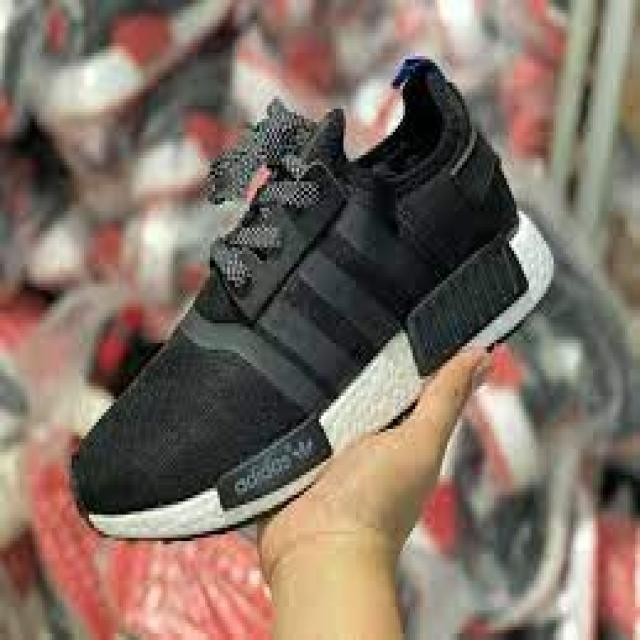shoe: (70, 59, 564, 547)
